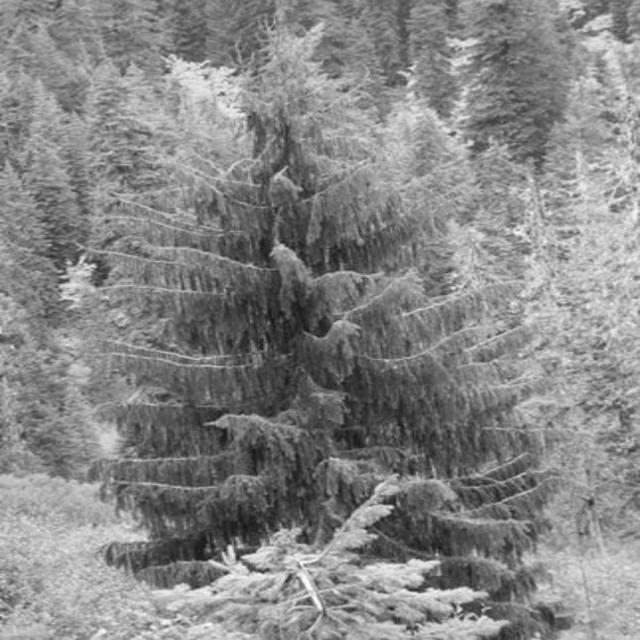Picea breweriana: (99, 14, 562, 633)
